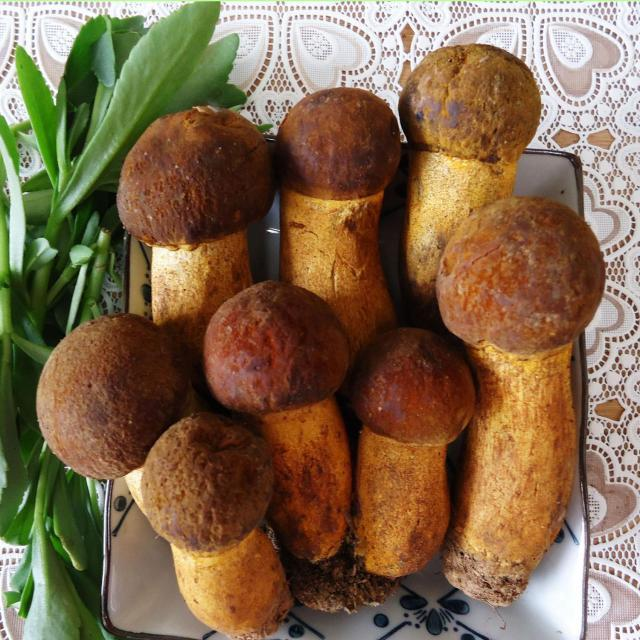Boletus: (443, 200, 604, 590), (210, 285, 354, 565), (403, 47, 545, 286), (118, 109, 272, 324), (272, 90, 405, 334), (150, 412, 287, 635), (352, 325, 473, 574), (39, 316, 190, 476)
